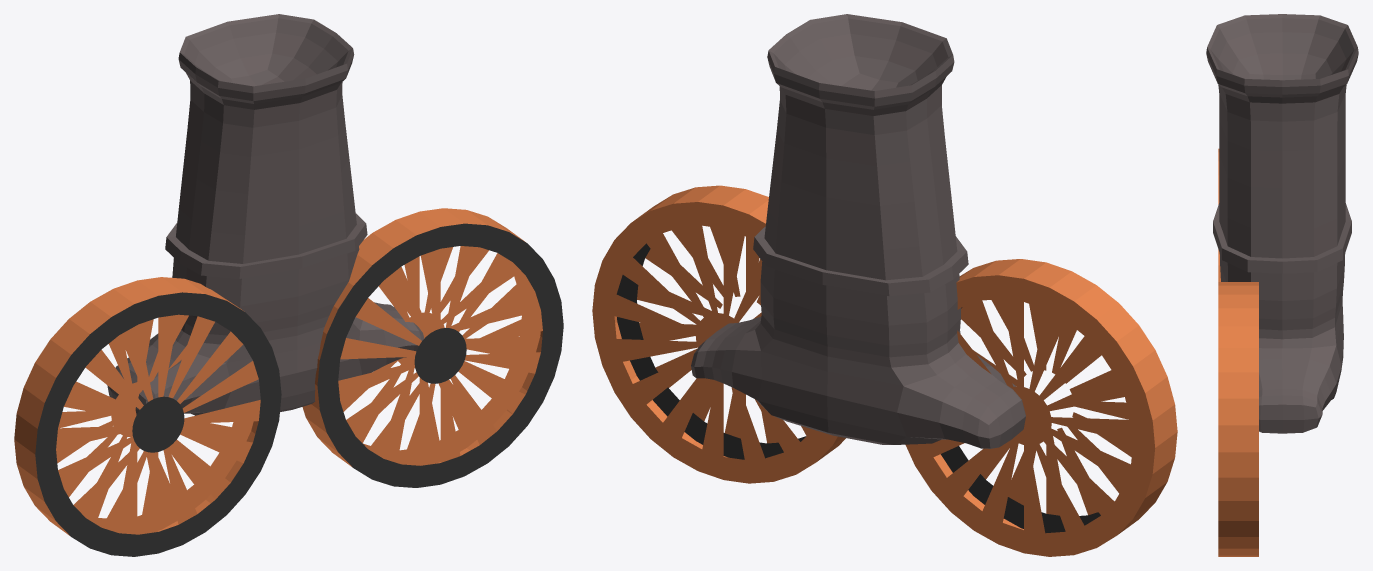
The model's file is cannon.fbx.
The picture shows the model from 3 angles, left to right: view 1: azimuth 30°, elevation 25°; view 2: azimuth 150°, elevation 25°; view 3: azimuth 270°, elevation 25°; orthographic projection. The views are drawn at different scales.
Parts seen in each view (by area): view 1: CannonBody, LeftWheel, RightWheel; view 2: CannonBody, LeftWheel, RightWheel; view 3: CannonBody, RightWheel.
Boxes of the visible parts, <box> form: CannonBody: <box>107,14,424,415</box>; LeftWheel: <box>14,277,281,556</box>; RightWheel: <box>302,208,563,487</box>; CannonBody: <box>691,14,1025,448</box>; LeftWheel: <box>905,259,1177,556</box>; RightWheel: <box>592,185,845,483</box>; CannonBody: <box>1206,14,1358,433</box>; RightWheel: <box>1218,282,1258,556</box>.
Bounding box in the file's own units: 403 × 324 × 104.
